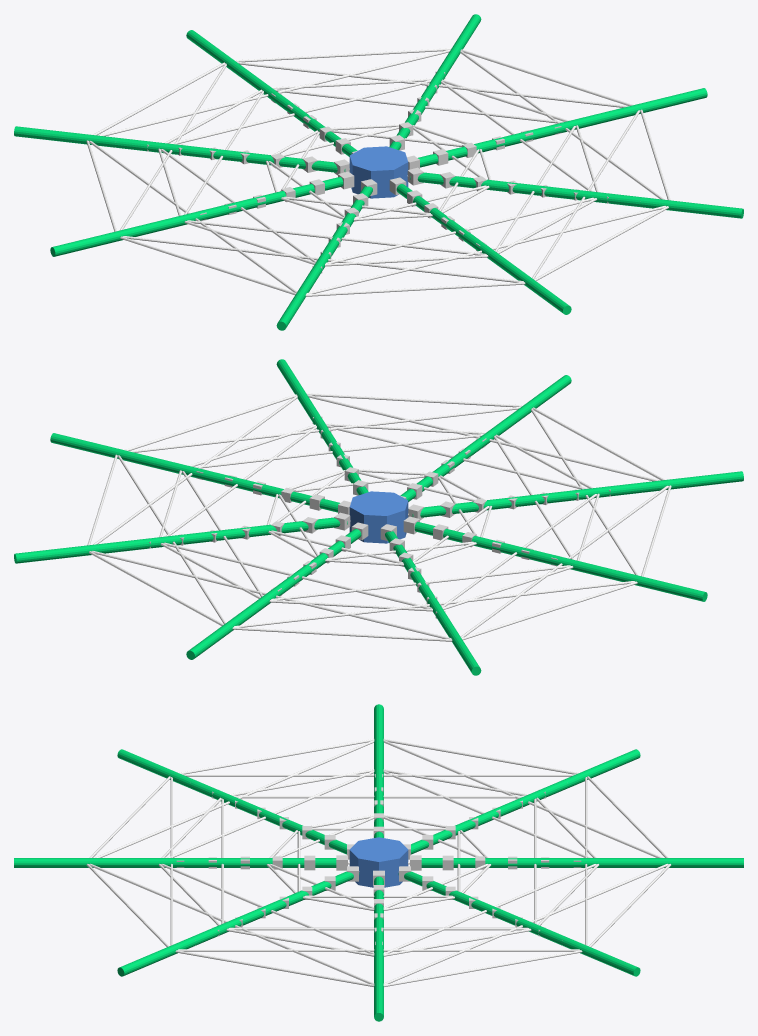
File: alien_beacon.glb
3 renders of one model, top to bottom at view 1: azimuth 30°, elevation 25°; view 2: azimuth 150°, elevation 25°; view 3: azimuth 270°, elevation 25°, orthographic. The views are drawn at different scales.
Visible parts, largest first — view 1: Pole_Arm3, Pole_Arm7, Pole_Arm4, Pole_Arm0, OctagonalCore, Pole_Arm6, Pole_Arm2, Pole_Arm5, Pole_Arm1, Wire_4_to_6_at_7, Wire_0_to_2_at_7, Wire_5_to_7_at_7 (+15 smaller); view 2: Pole_Arm5, Pole_Arm1, Pole_Arm4, Pole_Arm0, OctagonalCore, Pole_Arm2, Pole_Arm6, Pole_Arm3, Pole_Arm7, Wire_2_to_4_at_7, Wire_6_to_0_at_7, Wire_1_to_3_at_7 (+15 smaller); view 3: Pole_Arm2, Pole_Arm6, Pole_Arm1, Pole_Arm7, Pole_Arm3, Pole_Arm5, OctagonalCore, Pole_Arm0, Pole_Arm4, Wire_7_to_1_at_7, Wire_7_to_1_at_5, Wire_3_to_5_at_5 (+13 smaller).
Boxes of the visible parts, x1,y1,x2,y2 form: Pole_Arm3: (14, 126, 345, 172); Pole_Arm7: (410, 172, 743, 218); Pole_Arm4: (50, 177, 343, 256); Pole_Arm0: (418, 88, 707, 167); OctagonalCore: (349, 146, 408, 198); Pole_Arm6: (396, 184, 571, 314); Pole_Arm2: (186, 30, 357, 156); Pole_Arm5: (276, 186, 372, 330); Pole_Arm1: (389, 14, 481, 149); Wire_4_to_6_at_7: (123, 236, 523, 282); Wire_0_to_2_at_7: (236, 61, 629, 107); Wire_5_to_7_at_7: (306, 206, 665, 294); Pole_Arm5: (412, 471, 743, 517); Pole_Arm1: (14, 517, 347, 563); Pole_Arm4: (414, 522, 707, 601); Pole_Arm0: (50, 433, 339, 512); OctagonalCore: (349, 491, 408, 543); Pole_Arm2: (186, 529, 361, 659); Pole_Arm6: (400, 375, 571, 501); Pole_Arm3: (385, 531, 481, 675); Pole_Arm7: (276, 359, 368, 494); Wire_2_to_4_at_7: (234, 581, 634, 627); Wire_6_to_0_at_7: (128, 406, 521, 452); Wire_1_to_3_at_7: (92, 551, 451, 639); Pole_Arm2: (421, 858, 743, 867); Pole_Arm6: (14, 858, 336, 867); Pole_Arm1: (398, 871, 640, 976); Pole_Arm7: (117, 871, 359, 976); Pole_Arm3: (411, 749, 640, 854); Pole_Arm5: (117, 749, 346, 854); OctagonalCore: (349, 837, 408, 887); Pole_Arm0: (374, 876, 383, 1021); Pole_Arm4: (374, 704, 383, 837); Wire_7_to_1_at_7: (178, 949, 579, 951); Wire_7_to_1_at_5: (228, 927, 529, 930); Wire_3_to_5_at_5: (232, 795, 525, 798).
Bounding box in the file's own units: 553 × 22.27 × 553.
